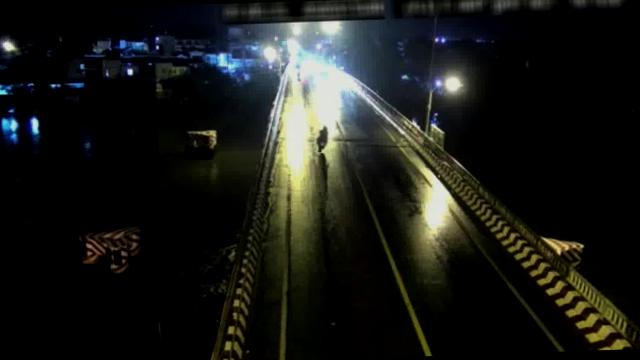Bike: (314, 122, 333, 154)
